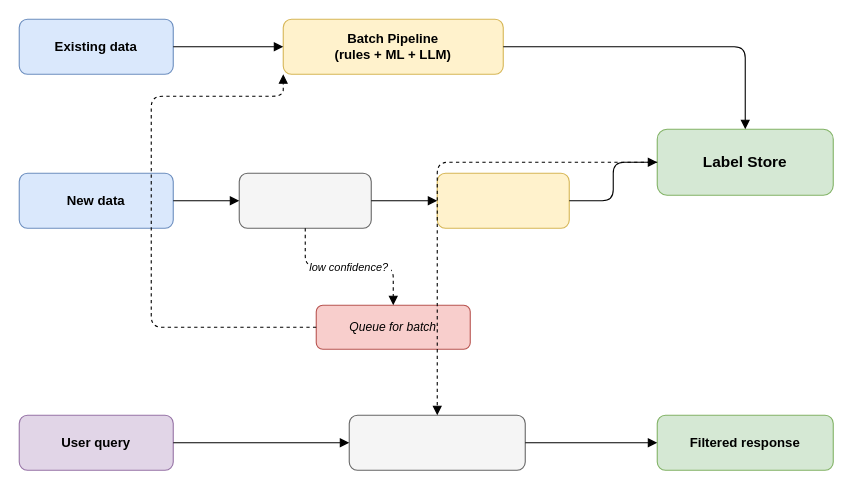
This 853x490 diagram has some shape labels left out. The shapes that lost their labels are listed below. From the top down, each one's box as (x1, y1, x2, y2) in pixels, then its label:
(238, 172, 371, 228): Write Hook
(436, 172, 569, 228): Fast rules
(348, 414, 525, 470): Read data + lookup labels
